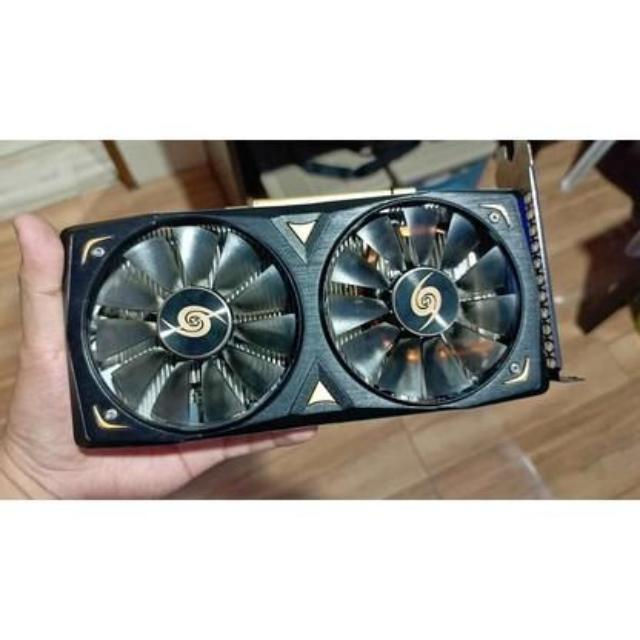GPU: (39, 169, 566, 446)
